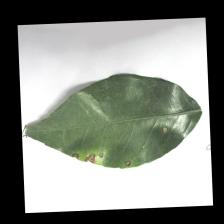canker: (63, 123, 168, 168)
